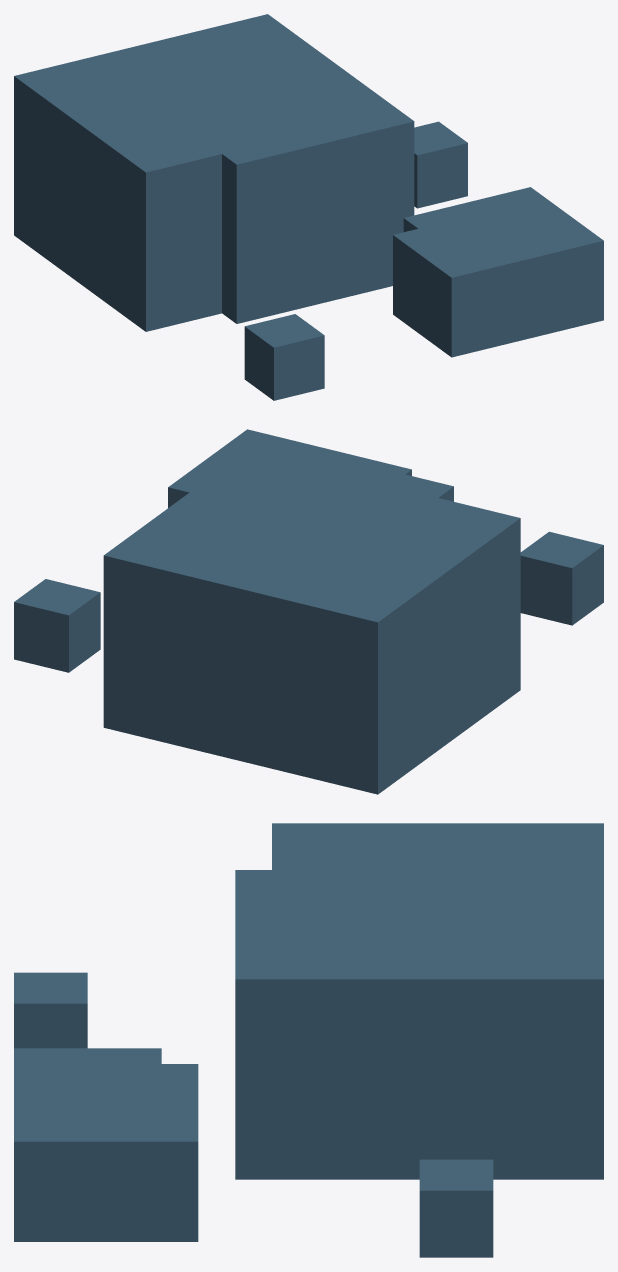
Rendered from stone_deco.glb.
The picture shows the model from 3 angles, top to bottom: view 1: azimuth 30°, elevation 25°; view 2: azimuth 150°, elevation 25°; view 3: azimuth 270°, elevation 25°; orthographic projection. The views are drawn at different scales.
Visible parts, largest first — view 1: stone_deco; view 2: stone_deco; view 3: stone_deco.
Part boxes in pixels (x1,y1,x2,y2): stone_deco: (14, 14, 603, 400); stone_deco: (14, 429, 603, 794); stone_deco: (14, 823, 603, 1257).
Bounding box in the file's own units: 1.5 × 0.6 × 1.6.
